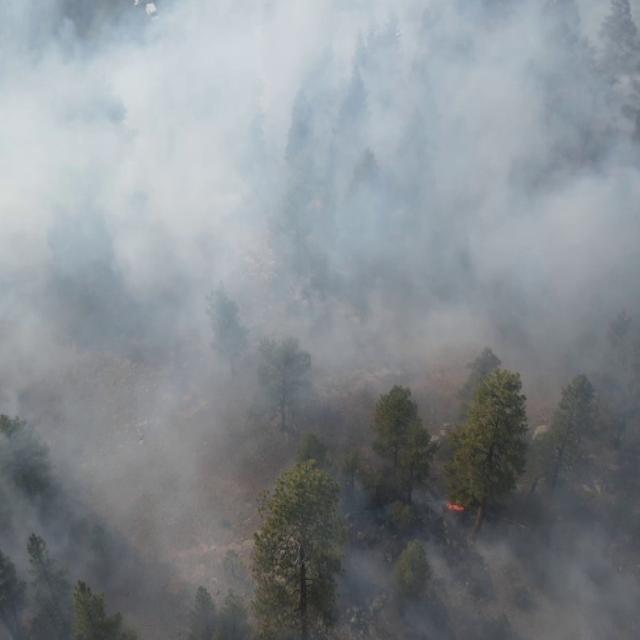fire: (447, 502, 468, 513)
smoke: (0, 0, 640, 640)
